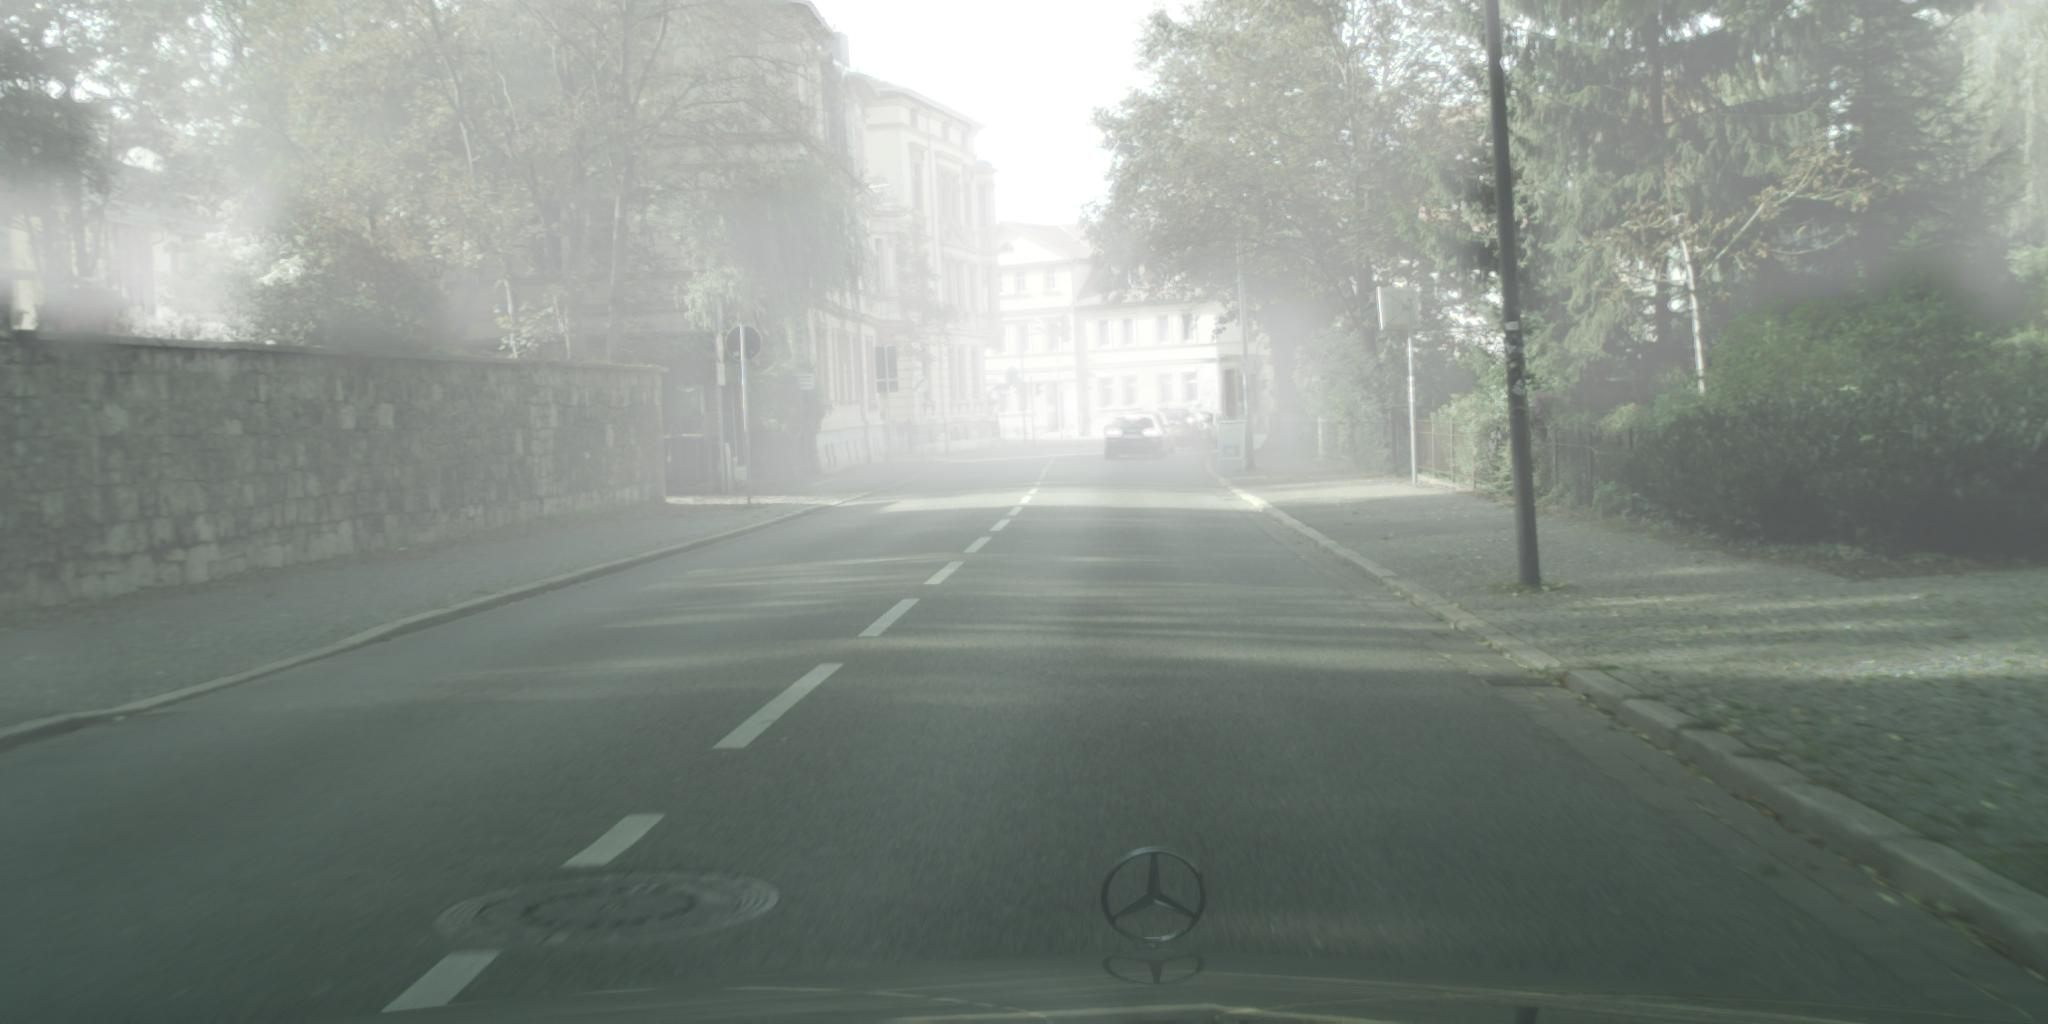car: (1102, 415, 1169, 462), (1156, 408, 1212, 453), (1130, 409, 1178, 455), (1183, 409, 1234, 451)
